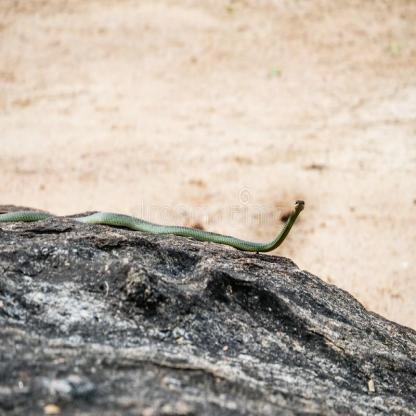Snake: (0, 193, 306, 254)
